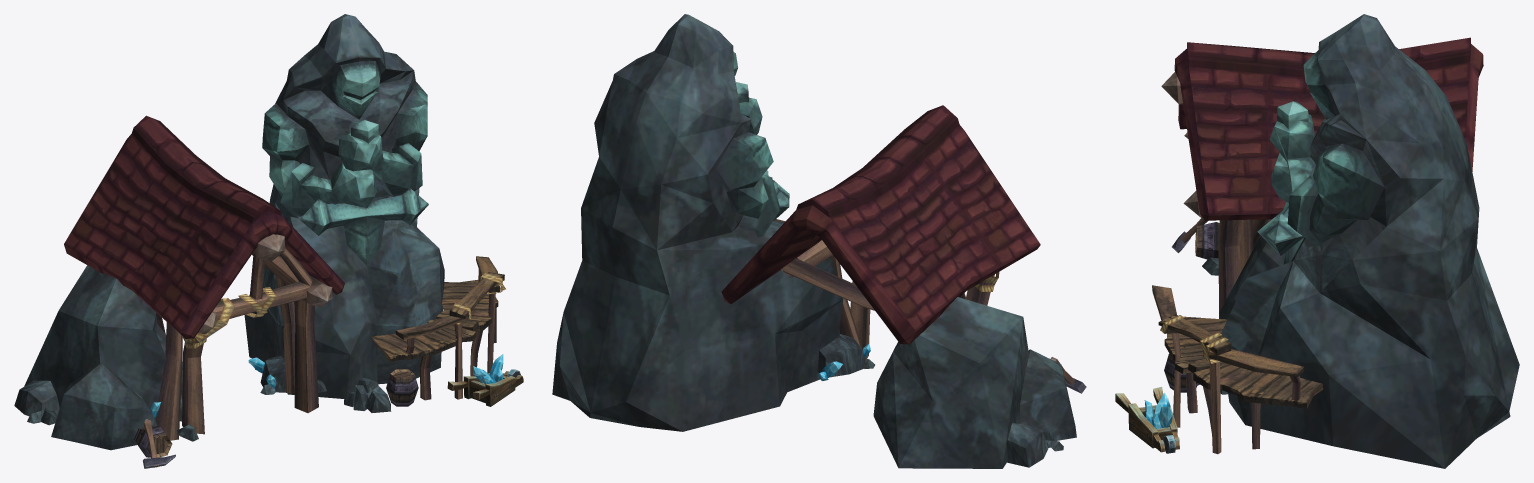
File: building_lower_mine_entrance.fbx
The picture shows the model from 3 angles, left to right: view 1: azimuth 30°, elevation 25°; view 2: azimuth 150°, elevation 25°; view 3: azimuth 270°, elevation 25°; orthographic projection. The views are drawn at different scales.
Parts seen in each view (by area): view 1: obj4.008; view 2: obj4.008; view 3: obj4.008.
Boxes of the visible parts, x1,y1,x2,y2 form: obj4.008: [14, 14, 523, 468]; obj4.008: [552, 14, 1086, 468]; obj4.008: [1115, 14, 1519, 468].
Bounding box in the file's own units: 13.12 × 9.64 × 8.79.
